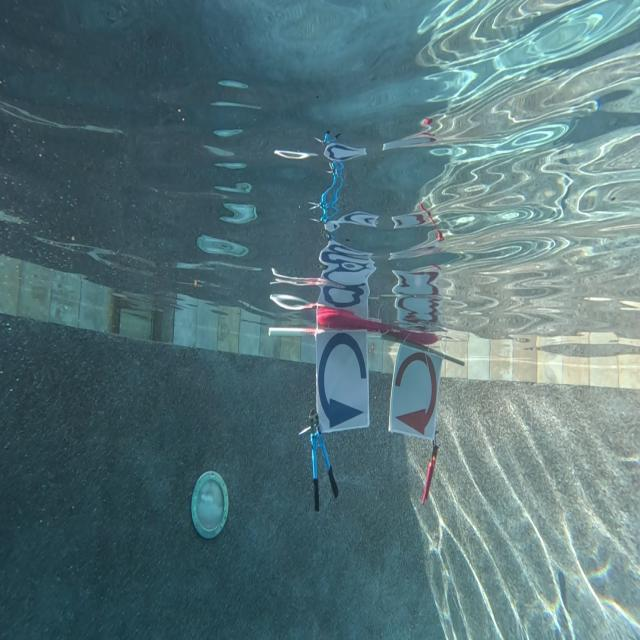blue_side: (314, 330, 370, 432)
red_side: (389, 344, 436, 440)
